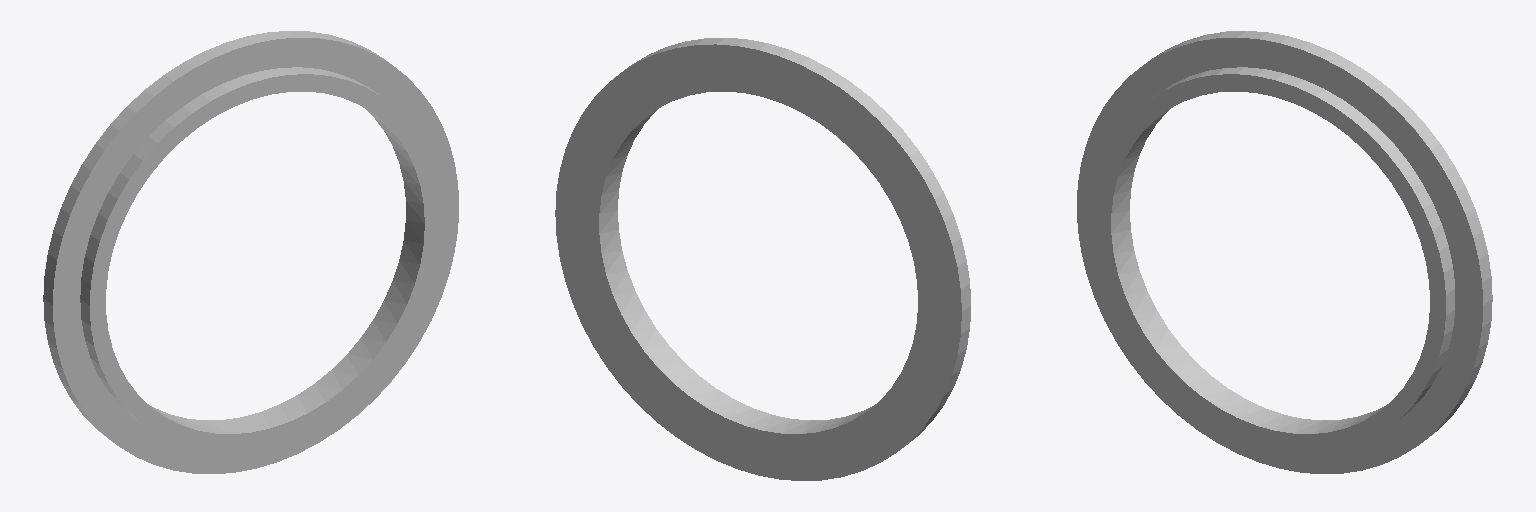
The model's file is Cube 1x1 V5_One Inch Lense Holder Cover (V5).obj.
3 views of the same model, side by side, from view 1: azimuth 30°, elevation 25°; view 2: azimuth 150°, elevation 25°; view 3: azimuth 330°, elevation 25° (orthographic).
Parts seen in each view (by area): view 1: Solid1:14; view 2: Solid1:14; view 3: Solid1:14.
Part boxes in pixels (x1,y1,x2,y2): Solid1:14: (43, 31, 458, 473); Solid1:14: (555, 38, 970, 480); Solid1:14: (1077, 31, 1492, 473).
Bounding box in the file's own units: 31.32 × 31.32 × 2.5.